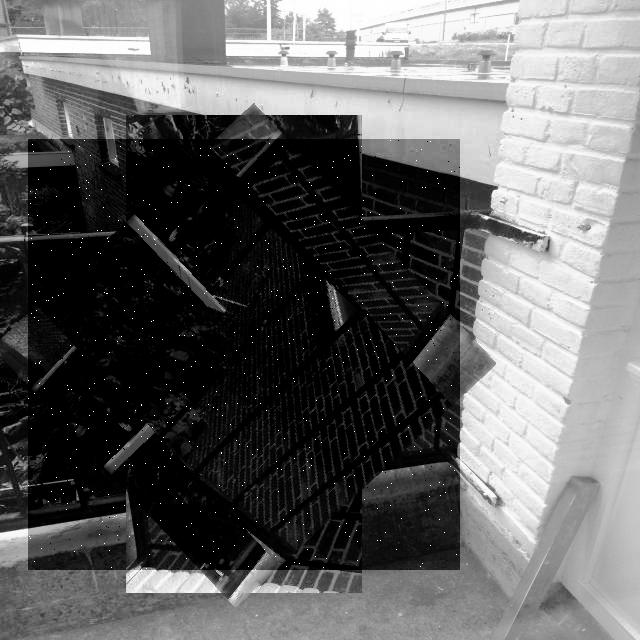fences: (28, 139, 460, 570)
